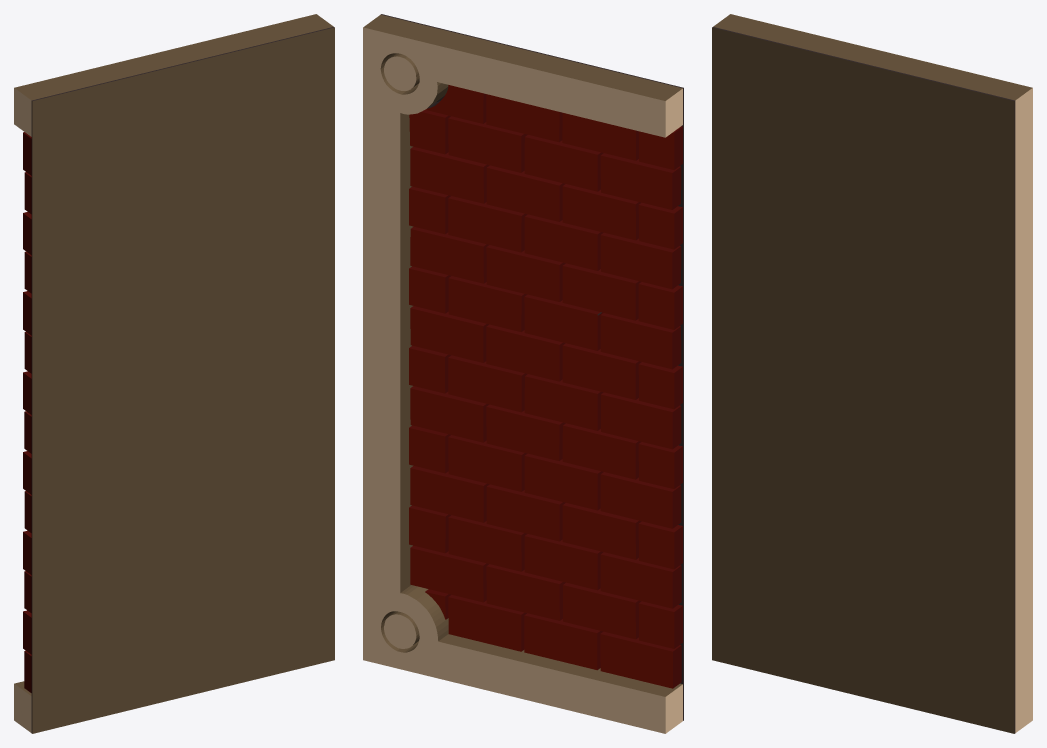
File: muroIZ.fbx
3 views of the same model, side by side, from view 1: azimuth 30°, elevation 25°; view 2: azimuth 150°, elevation 25°; view 3: azimuth 330°, elevation 25° (orthographic).
Visible parts, largest first — view 1: MurExtremoIZ; view 2: MurExtremoIZ; view 3: MurExtremoIZ.
Part boxes in pixels (left/top/right/bottom): MurExtremoIZ: left=14, top=14, right=334, bottom=733; MurExtremoIZ: left=363, top=14, right=683, bottom=733; MurExtremoIZ: left=712, top=14, right=1032, bottom=733.
Size of the model in its own units: 200 by 400 by 21.
